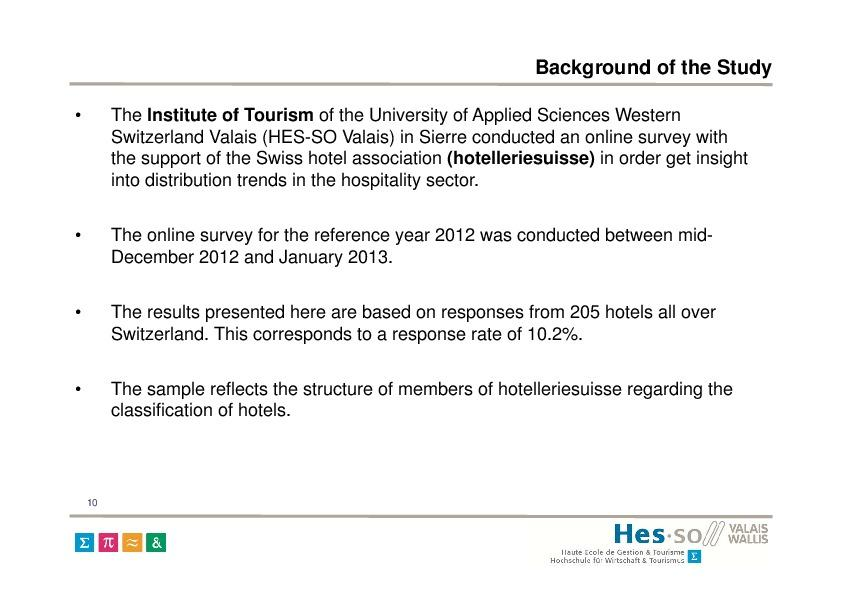paragraph: (60, 90, 799, 460)
title: (529, 48, 777, 84)
